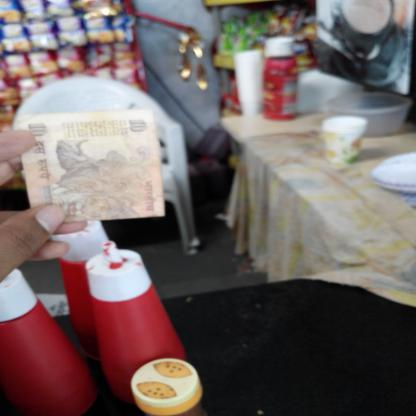Old10Back: (16, 110, 165, 220)
